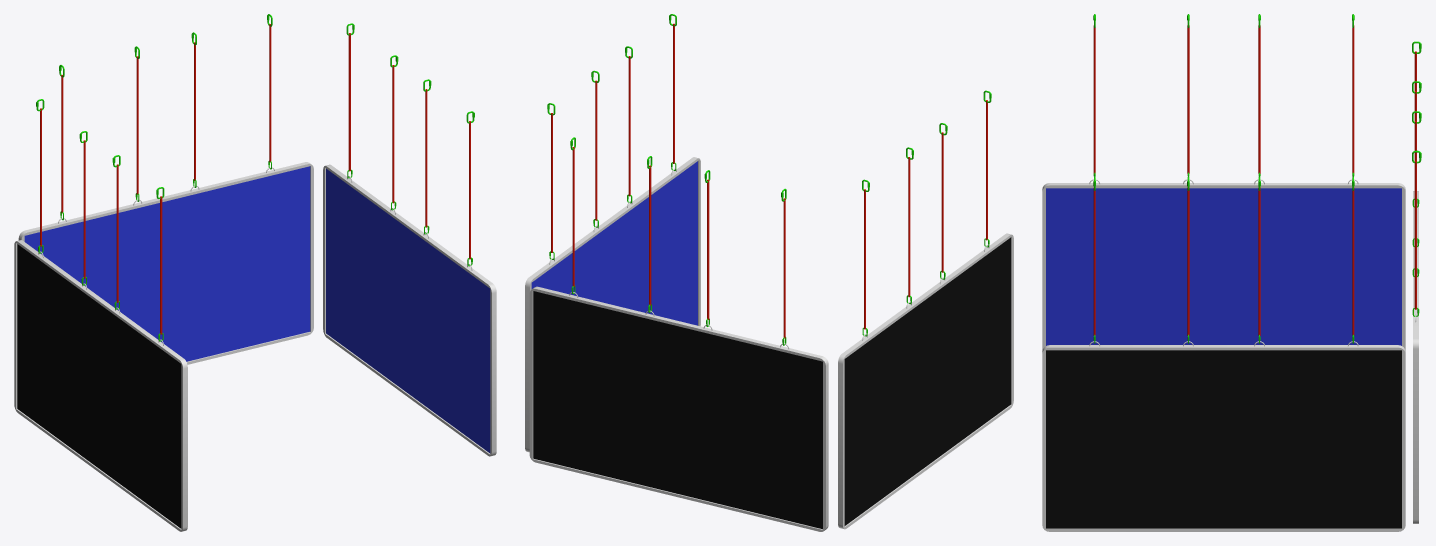
The model's file is Large_Post_.fbx.
The picture shows the model from 3 angles, left to right: view 1: azimuth 30°, elevation 25°; view 2: azimuth 150°, elevation 25°; view 3: azimuth 270°, elevation 25°; orthographic projection. The views are drawn at different scales.
Parts seen in each view (by area): view 1: Post_2, Post_3, Post_1; view 2: Post_2, Post_3, Post_1; view 3: Post_1, Post_3, Post_2.
Boxes of the visible parts, x1,y1,x2,y2 form: Post_2: (18,14,313,364); Post_3: (14,99,187,531); Post_1: (323,23,496,456); Post_2: (529,137,828,531); Post_3: (838,90,1013,529); Post_1: (525,14,700,452); Post_1: (1042,177,1405,531); Post_3: (1042,14,1405,350); Post_2: (1412,41,1421,523).
Size of the model in its own units: 401 by 395 by 385.
